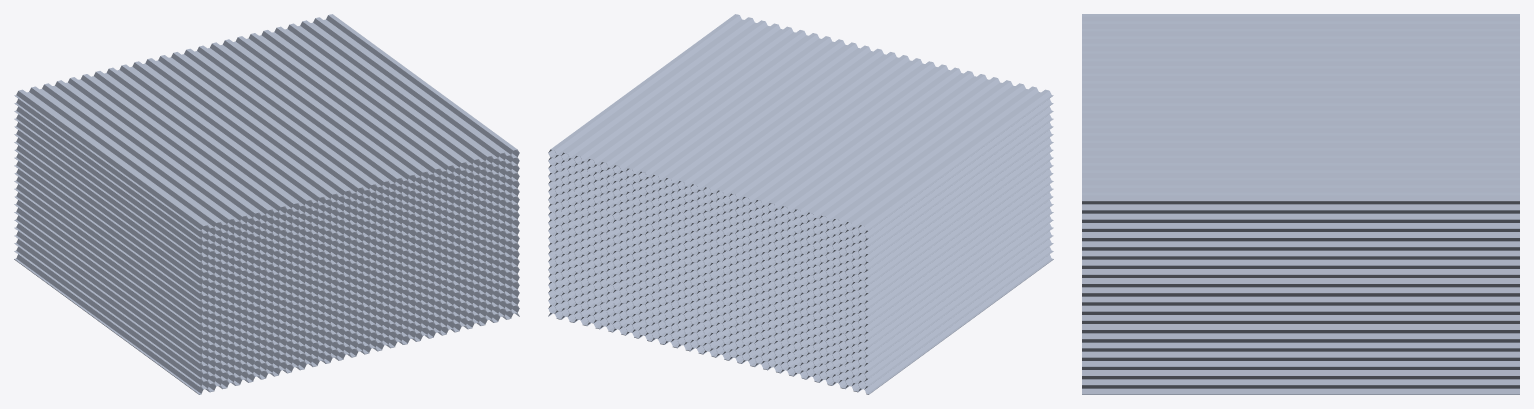
Rendered from UA_26_Chassis_Assembly__UA26_Honeycomb_Impact_Attenuator_1.dae.
The picture shows the model from 3 angles, left to right: view 1: azimuth 30°, elevation 25°; view 2: azimuth 150°, elevation 25°; view 3: azimuth 270°, elevation 25°; orthographic projection. The views are drawn at different scales.
Visible parts, largest first — view 1: node0; view 2: node0; view 3: node0.
Part boxes in pixels (<box>): node0: <box>14,14,519,394</box>; node0: <box>548,14,1053,394</box>; node0: <box>1082,14,1519,394</box>.
Bounding box in the file's own units: 0.2032 × 0.1016 × 0.2032.
